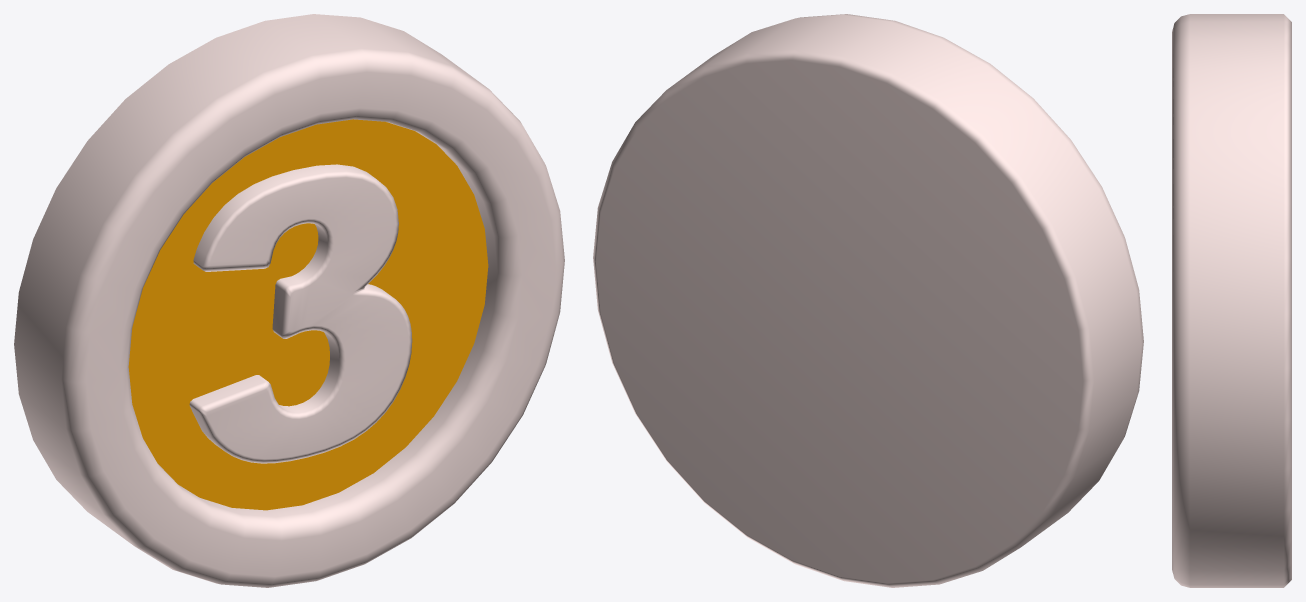
The model's file is City_20_Number_House_3.glb.
The picture shows the model from 3 angles, left to right: view 1: azimuth 30°, elevation 25°; view 2: azimuth 150°, elevation 25°; view 3: azimuth 270°, elevation 25°; orthographic projection.
Visible parts, largest first — view 1: City_20_Number_House_3; view 2: City_20_Number_House_3; view 3: City_20_Number_House_3.
Boxes of the visible parts, x1=… form: City_20_Number_House_3: x1=14, y1=14, x2=564, y2=587; City_20_Number_House_3: x1=593, y1=14, x2=1143, y2=587; City_20_Number_House_3: x1=1172, y1=14, x2=1291, y2=587.
Size of the model in its own units: 0.5101 by 0.5101 by 0.1065.
1 material, 1 textured.
